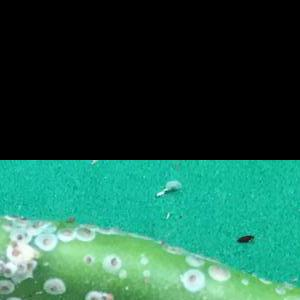Femea: (183, 273, 202, 288), (78, 227, 94, 241), (37, 237, 55, 248), (45, 280, 59, 293), (5, 247, 22, 257), (107, 256, 119, 268), (12, 232, 23, 242)
